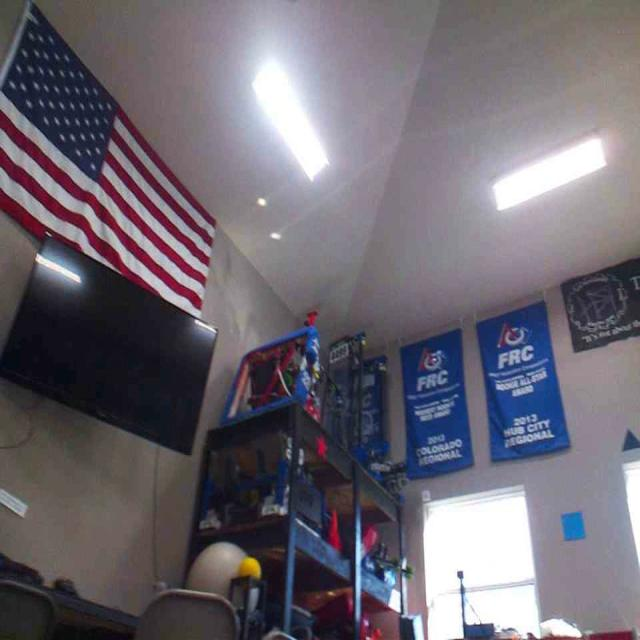square_blue: (560, 510, 587, 540)
star_red: (315, 434, 328, 460)
triangle_black: (620, 429, 639, 451)
